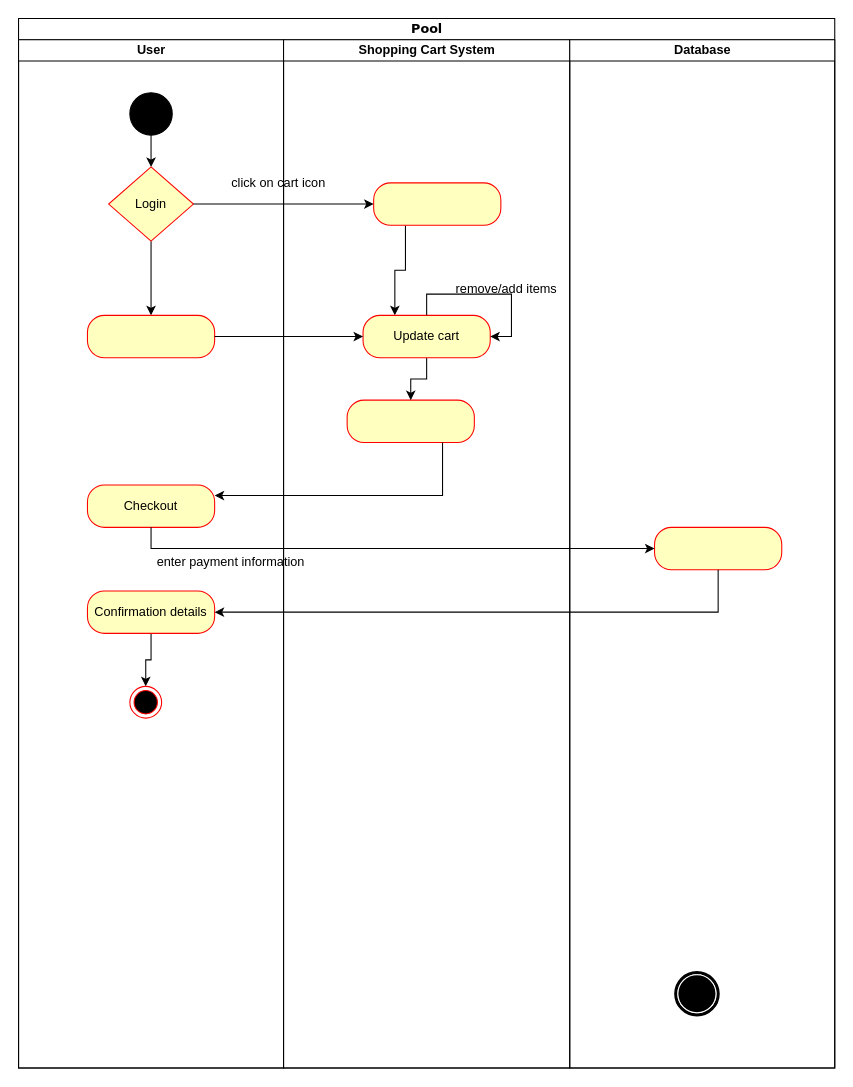
This 853x1087 diagram has some shape labels left out. The shapes that lost their labels are listed below. From the top down, each one's centre as x and y in pixels, then its label:
point (437, 203): Show shopping cart
point (150, 336): Add items
point (410, 421): Display cart details
point (717, 548): Confirm checkout success
